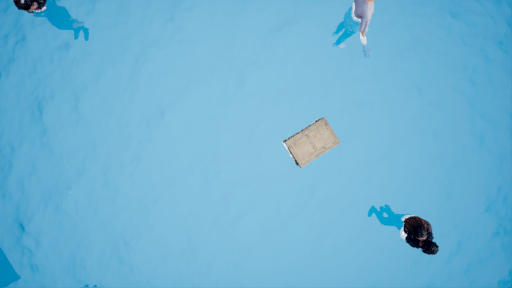person: (369, 200, 448, 263), (327, 1, 381, 70)
